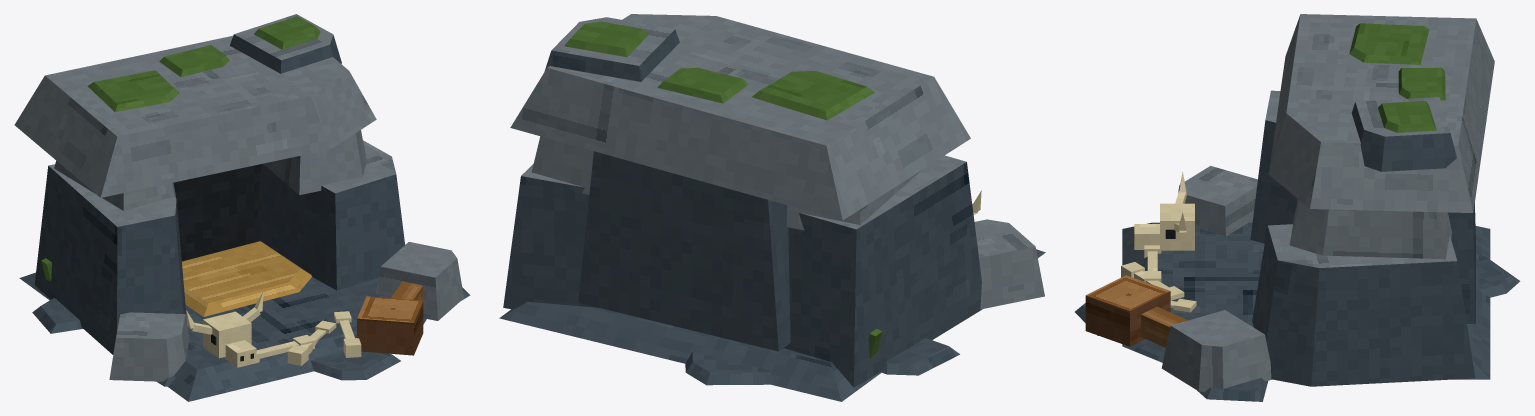
File: troll_lair_v2.glb
3 views of the same model, side by side, from view 1: azimuth 30°, elevation 25°; view 2: azimuth 150°, elevation 25°; view 3: azimuth 270°, elevation 25° (orthographic). The views are drawn at different scales.
Parts seen in each view (by area): view 1: Model; view 2: Model; view 3: Model.
Boxes of the visible parts, x1,y1,x2,y2 form: Model: (14, 14, 470, 401); Model: (499, 14, 1045, 401); Model: (1075, 14, 1520, 401).
Size of the model in its own units: 1.35 by 0.775 by 1.31.
Materials: 1 (1 with a texture image).
